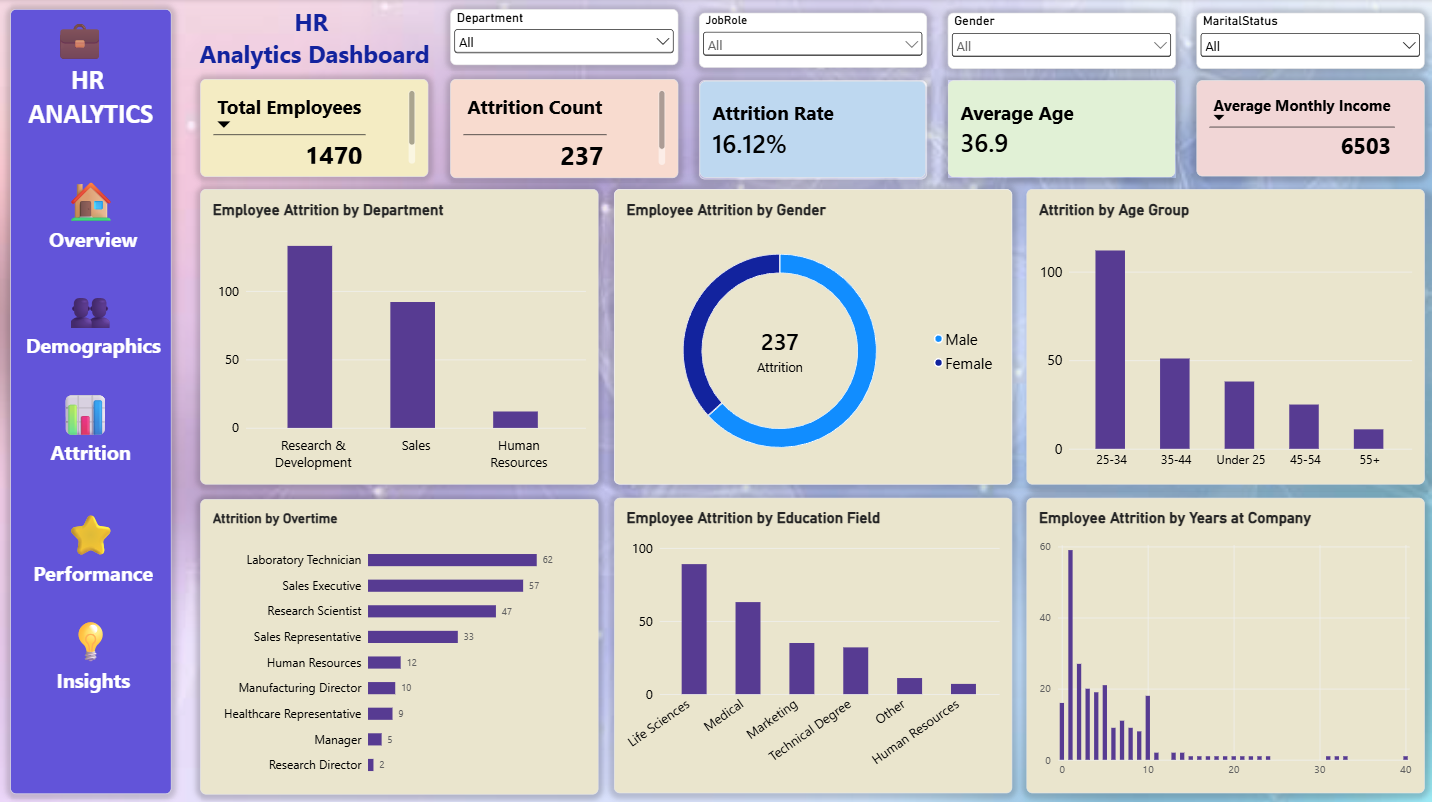

What the dashboard file says about the page in this screenshot:
{"tool":"powerbi","page":{"name":"Dashboard","canvas":[1920,1080],"ordinal":0},"visuals":[{"type":"tableEx","fields":{"Values":["HR_Data.Total Employees"]},"box":[270.3,106.4,305.2,130.8],"z":0},{"type":"tableEx","fields":{"Values":["HR_Data.Attrition Count"]},"box":[605.2,106.4,305.2,132.6],"z":1000},{"type":"cardVisual","fields":{"Data":["HR_Data.Attrition Rate"]},"box":[938.4,108.1,305.2,132.6],"z":2000},{"type":"cardVisual","fields":{"Data":["HR_Data.Average Age"]},"box":[1271.5,108.1,305.2,130.8],"z":3000},{"type":"tableEx","fields":{"Values":["HR_Data.Average Monthly Income"]},"box":[1604.7,108.1,305.2,129.1],"z":4000},{"type":"clusteredColumnChart","title":"Employee Attrition by Department","fields":{"Category":["HR_Data.Department"],"Y":["HR_Data.Attrition Count"]},"box":[270.3,254.7,533.7,395.9],"z":5000},{"type":"donutChart","title":"Employee Attrition by Gender","fields":{"Category":["HR_Data.Gender"],"Y":["HR_Data.Attrition Count"]},"box":[823.3,254.7,533.7,395.9],"z":6000},{"type":"clusteredColumnChart","title":"Employee Attrition by Education Field","fields":{"Category":["HR_Data.EducationField"],"Y":["HR_Data.Attrition Count"]},"box":[823.3,668,533.7,395.9],"z":7000},{"type":"clusteredBarChart","title":"Attrition by Overtime","fields":{"Category":["HR_Data.JobRole"],"Y":["HR_Data.Attrition Count"]},"box":[270.3,669.8,533.7,395.9],"z":8000},{"type":"clusteredColumnChart","title":"Attrition by Age Group","fields":{"Category":["HR_Data.Age Group"],"Y":["HR_Data.Attrition Count"]},"box":[1376.2,254.7,533.7,395.9],"z":9000},{"type":"slicer","fields":{"Values":["HR_Data.Department"]},"box":[605.2,14,305.2,75],"z":10000},{"type":"slicer","fields":{"Values":["HR_Data.JobRole"]},"box":[938.4,19.2,305.2,73.3],"z":11000},{"type":"slicer","fields":{"Values":["HR_Data.Gender"]},"box":[1271.5,19.2,305.2,75],"z":12000},{"type":"clusteredColumnChart","title":"Employee Attrition by Years at Company","fields":{"Category":["HR_Data.YearsAtCompany"],"Y":["HR_Data.Attrition Count"]},"box":[1376.2,668,533.7,395.9],"z":13000},{"type":"slicer","fields":{"Values":["HR_Data.MaritalStatus"]},"box":[1604.7,19.2,305.2,75],"z":14000},{"type":"textbox","box":[236.2,8.4,373.3,94.2],"z":15000},{"type":"textbox","box":[15.1,13.4,216.1,1051.9],"z":16000}]}

Visuals, with their boxes in screenshot pixels (x1, y1, x2, y2), scaled from the page's 1920x1080 canvas onto the 1432x802 screenshot:
tableEx - HR_Data.Total Employees: bbox(202, 79, 429, 176)
tableEx - HR_Data.Attrition Count: bbox(451, 79, 679, 177)
cardVisual - HR_Data.Attrition Rate: bbox(700, 80, 928, 179)
cardVisual - HR_Data.Average Age: bbox(948, 80, 1176, 177)
tableEx - HR_Data.Average Monthly Income: bbox(1197, 80, 1424, 176)
"Employee Attrition by Department" clusteredColumnChart: bbox(202, 189, 600, 483)
"Employee Attrition by Gender" donutChart: bbox(614, 189, 1012, 483)
"Employee Attrition by Education Field" clusteredColumnChart: bbox(614, 496, 1012, 790)
"Attrition by Overtime" clusteredBarChart: bbox(202, 497, 600, 791)
"Attrition by Age Group" clusteredColumnChart: bbox(1026, 189, 1424, 483)
slicer - HR_Data.Department: bbox(451, 10, 679, 66)
slicer - HR_Data.JobRole: bbox(700, 14, 928, 69)
slicer - HR_Data.Gender: bbox(948, 14, 1176, 70)
"Employee Attrition by Years at Company" clusteredColumnChart: bbox(1026, 496, 1424, 790)
slicer - HR_Data.MaritalStatus: bbox(1197, 14, 1424, 70)
textbox: bbox(176, 6, 455, 76)
textbox: bbox(11, 10, 172, 791)
